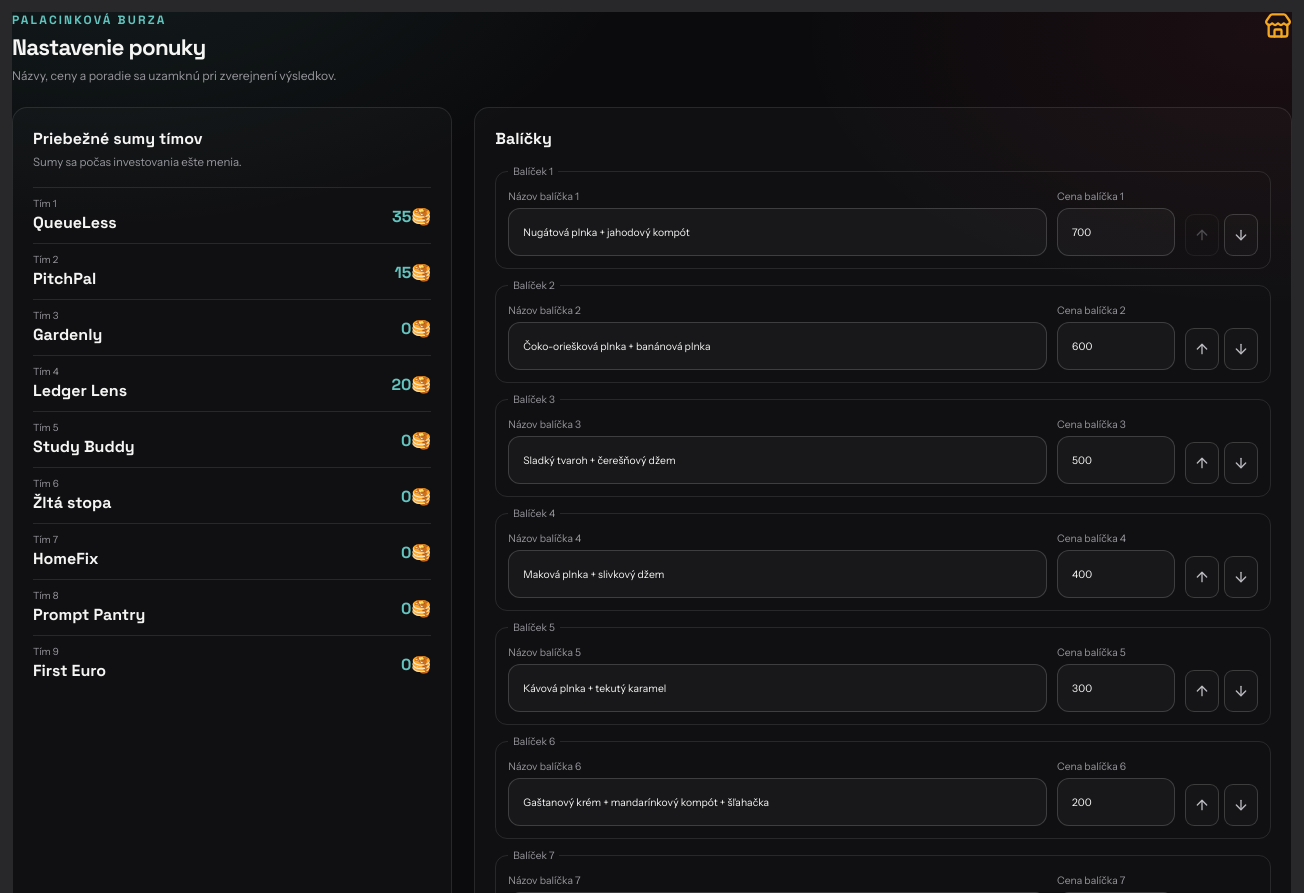
it: PancakeMarketAdmin › moves complete package rows and rewrites positions
Click the button named "Posunúť balíček 2 vyššie" at (1202,349), box [1185,328,1219,370]
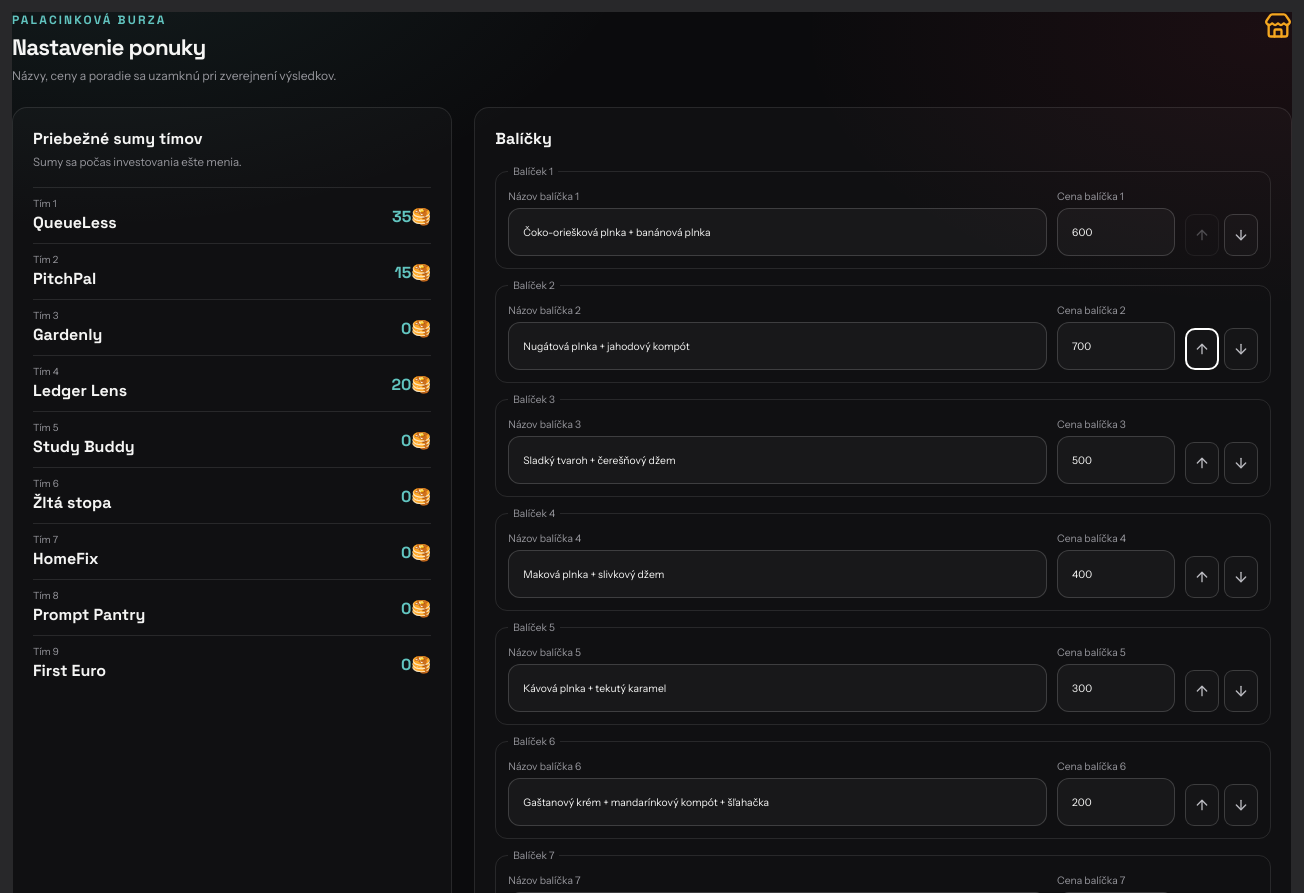
Expected: the field labelled "Názov balíčka 1" holds "Čoko-oriešková plnka + banánová plnka", [508,208,1047,256]
Expected: the number field labelled "Cena balíčka 1" holds "600", [1057,208,1175,256]
